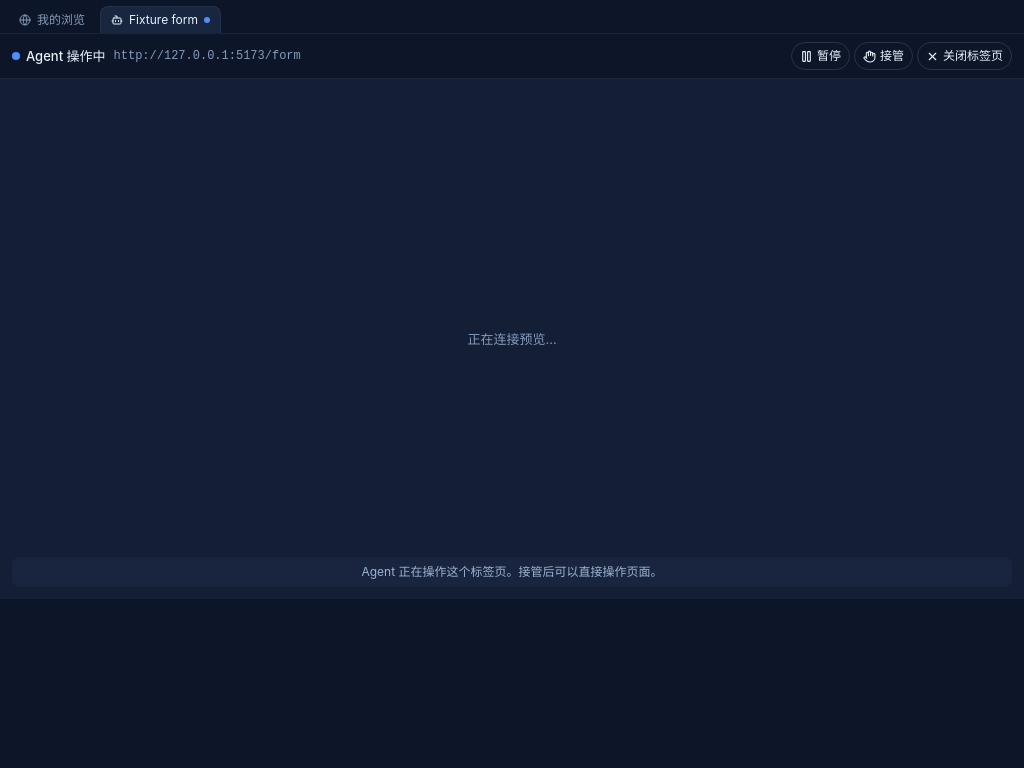
Scenario: BrowserPane Agent tabs › shows a control failure inline
Click the button "暂停".
click(820, 56)  # box [791,42,850,70]
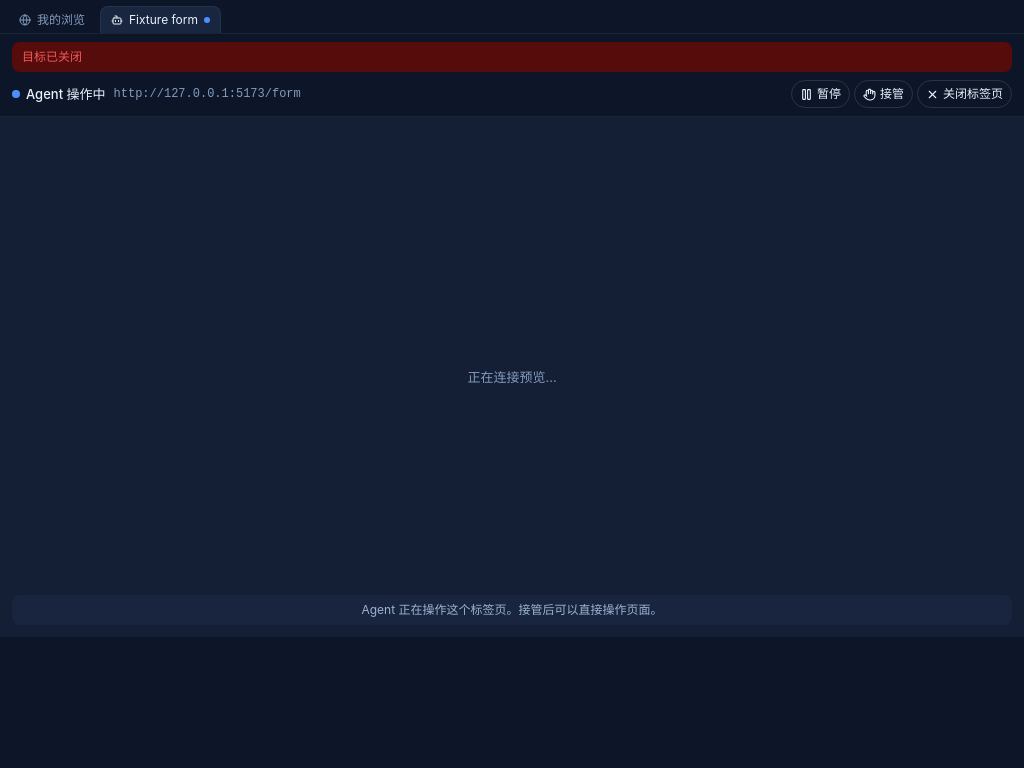
Now the message "目标已关闭" is shown, box [12,42,1012,72]
